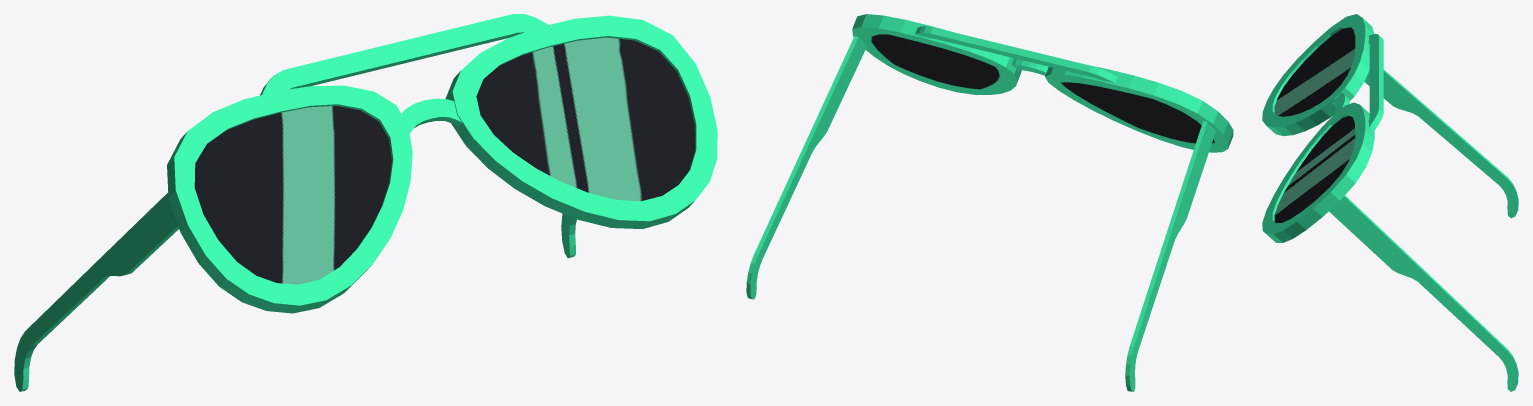
File: SM_sunglasses.fbx
3 renders of one model, left to right at view 1: azimuth 30°, elevation 25°; view 2: azimuth 150°, elevation 25°; view 3: azimuth 270°, elevation 25°, orthographic. The views are drawn at different scales.
Visible parts, largest first — view 1: SM_sunglasses; view 2: SM_sunglasses; view 3: SM_sunglasses.
Part boxes in pixels (bbox=[...]): SM_sunglasses: bbox=[14, 14, 717, 391]; SM_sunglasses: bbox=[746, 14, 1233, 391]; SM_sunglasses: bbox=[1262, 14, 1518, 391].
Bounding box in the file's own units: 73.82 × 45.41 × 45.52.
